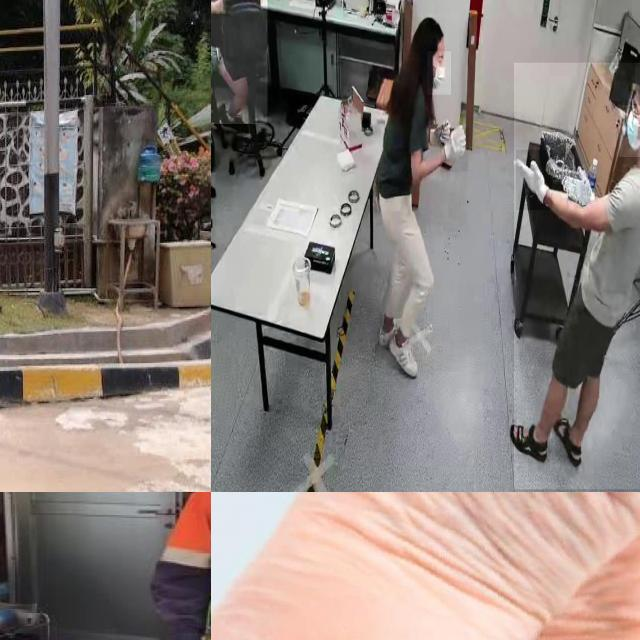Barefoots: (211, 492, 640, 640)
face_mask: (619, 105, 640, 156), (427, 51, 451, 95)
hand_glove: (516, 150, 552, 210), (441, 128, 469, 172)
hand_noglove: (211, 0, 226, 14)
head_nohelmet: (413, 16, 445, 42)
person: (514, 62, 640, 490), (372, 14, 460, 366), (211, 0, 268, 125)
shoes: (387, 332, 419, 378), (377, 313, 405, 348)
